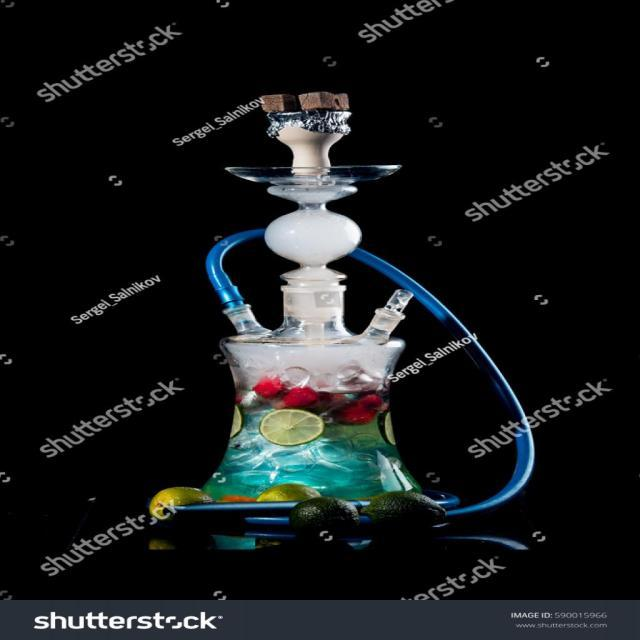smoking: (148, 91, 535, 551)
